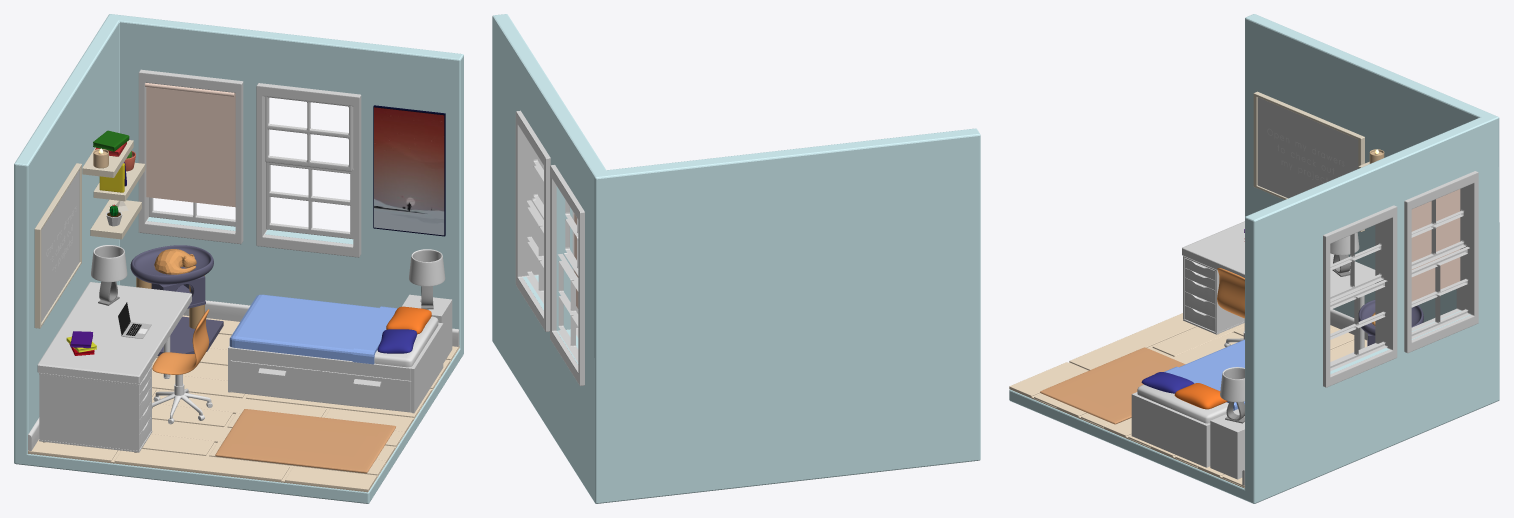
Rendered from room_withoutlights8.glb.
The picture shows the model from 3 angles, left to right: view 1: azimuth 30°, elevation 25°; view 2: azimuth 150°, elevation 25°; view 3: azimuth 270°, elevation 25°; orthographic projection. The views are drawn at different scales.
Visible parts, largest first — view 1: walls, floor, Right Window Frame.004, Frame, Plane.006, TableTop, sheets, Plane.007, ALEX_Frame, Right Window Frame.001, Right Window Frame.002, Whiteboard frame.001 (+22 smaller); view 2: walls, Right Window Frame.001, Right Window Frame.002, Right bottom glass.001, Right bottom glass.002, Rihgt upprt glass.001; view 3: walls, floor, Whiteboard frame.001, Right Window Frame.002, Right Window Frame.001, Plane.007, Frame, Right Window Frame.004, TableTop, NightStand, sheets, Right bottom glass.002 (+13 smaller).
Boxes of the visible parts, box(x1,y1,x2,y2) form: walls: box(14, 14, 463, 503); floor: box(28, 315, 459, 492); Right Window Frame.004: box(145, 82, 235, 207); Frame: box(228, 322, 443, 413); Plane.006: box(373, 105, 445, 236); TableTop: box(37, 282, 191, 383); sheets: box(229, 294, 397, 364); Plane.007: box(215, 409, 395, 473); ALEX_Frame: box(39, 364, 152, 452); Right Window Frame.001: box(256, 83, 361, 257); Right Window Frame.002: box(138, 69, 243, 244); Whiteboard frame.001: box(41, 170, 79, 321); walls: box(492, 14, 980, 503); Right Window Frame.001: box(515, 110, 550, 331); Right Window Frame.002: box(550, 165, 584, 385); Right bottom glass.001: box(558, 254, 578, 362); Right bottom glass.002: box(526, 200, 543, 303); Rihgt upprt glass.001: box(564, 200, 578, 275); walls: box(1009, 14, 1499, 503); floor: box(1009, 313, 1367, 488); Whiteboard frame.001: box(1257, 97, 1358, 198); Right Window Frame.002: box(1404, 171, 1478, 353); Right Window Frame.001: box(1323, 205, 1397, 387); Plane.007: box(1040, 347, 1185, 424); Frame: box(1131, 392, 1210, 467); Right Window Frame.004: box(1411, 189, 1460, 301); TableTop: box(1182, 221, 1375, 302); NightStand: box(1210, 409, 1244, 479); sheets: box(1164, 339, 1244, 410); Right bottom glass.002: box(1330, 280, 1388, 371).
Size of the model in its own units: 5.67 by 3.63 by 5.67.
46 materials, 1 textured.
